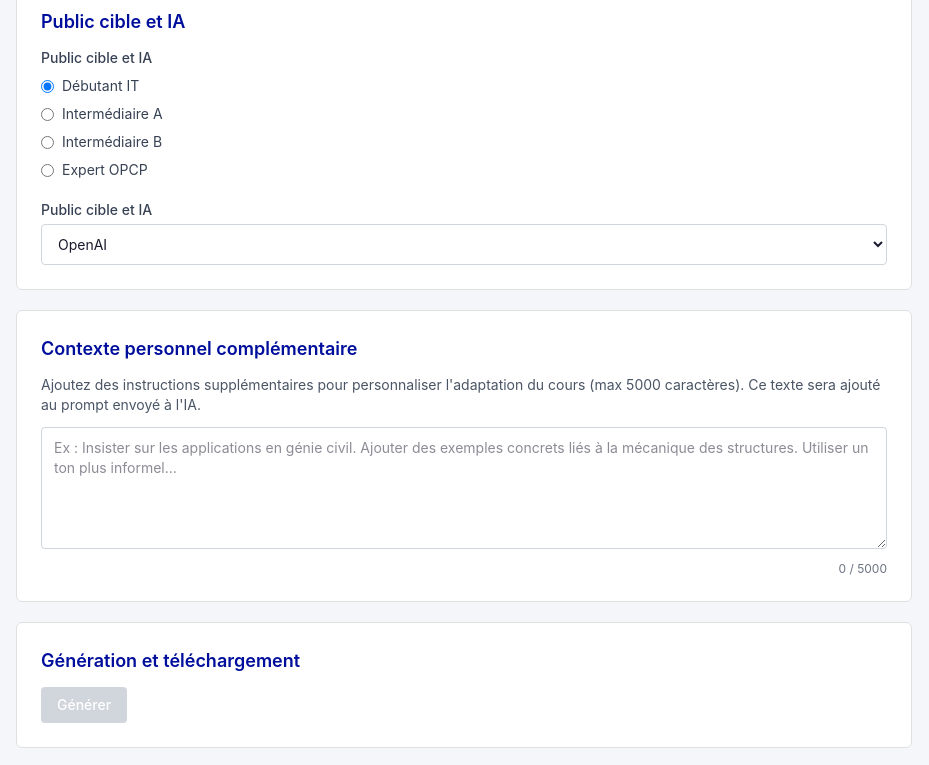
Test: additional personal context › renders the context section with a 5000-char-capped textarea and a live counter
(page scrolled)
Check: the heading "Contexte personnel complémentaire" is shown, box [41,338,357,359]
Check: the text "0 / 5000" is shown, box [838,561,887,576]
Type "Hello" into the text box named "Contexte personnel complémentaire" at (464, 488), box [41,427,887,549]
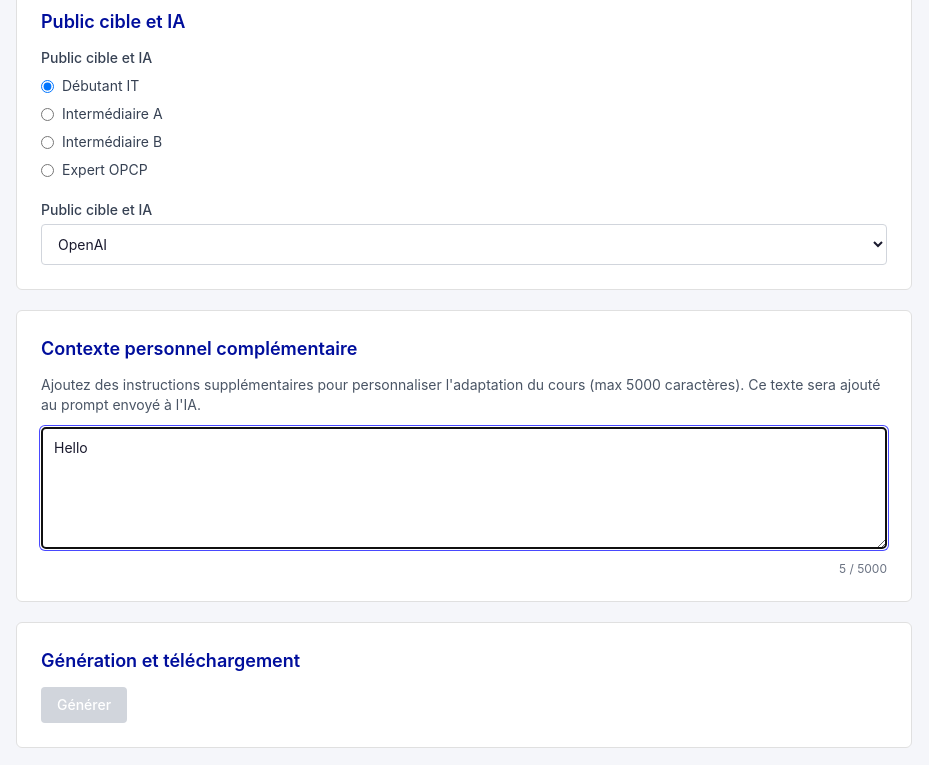
Check: the text "5 / 5000" is shown, box [839,561,887,576]
